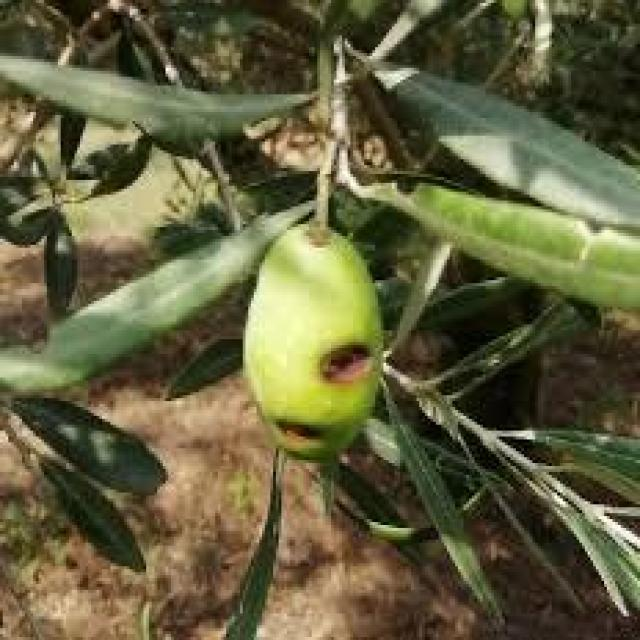Olive Fruit Fly: (243, 221, 381, 457)
